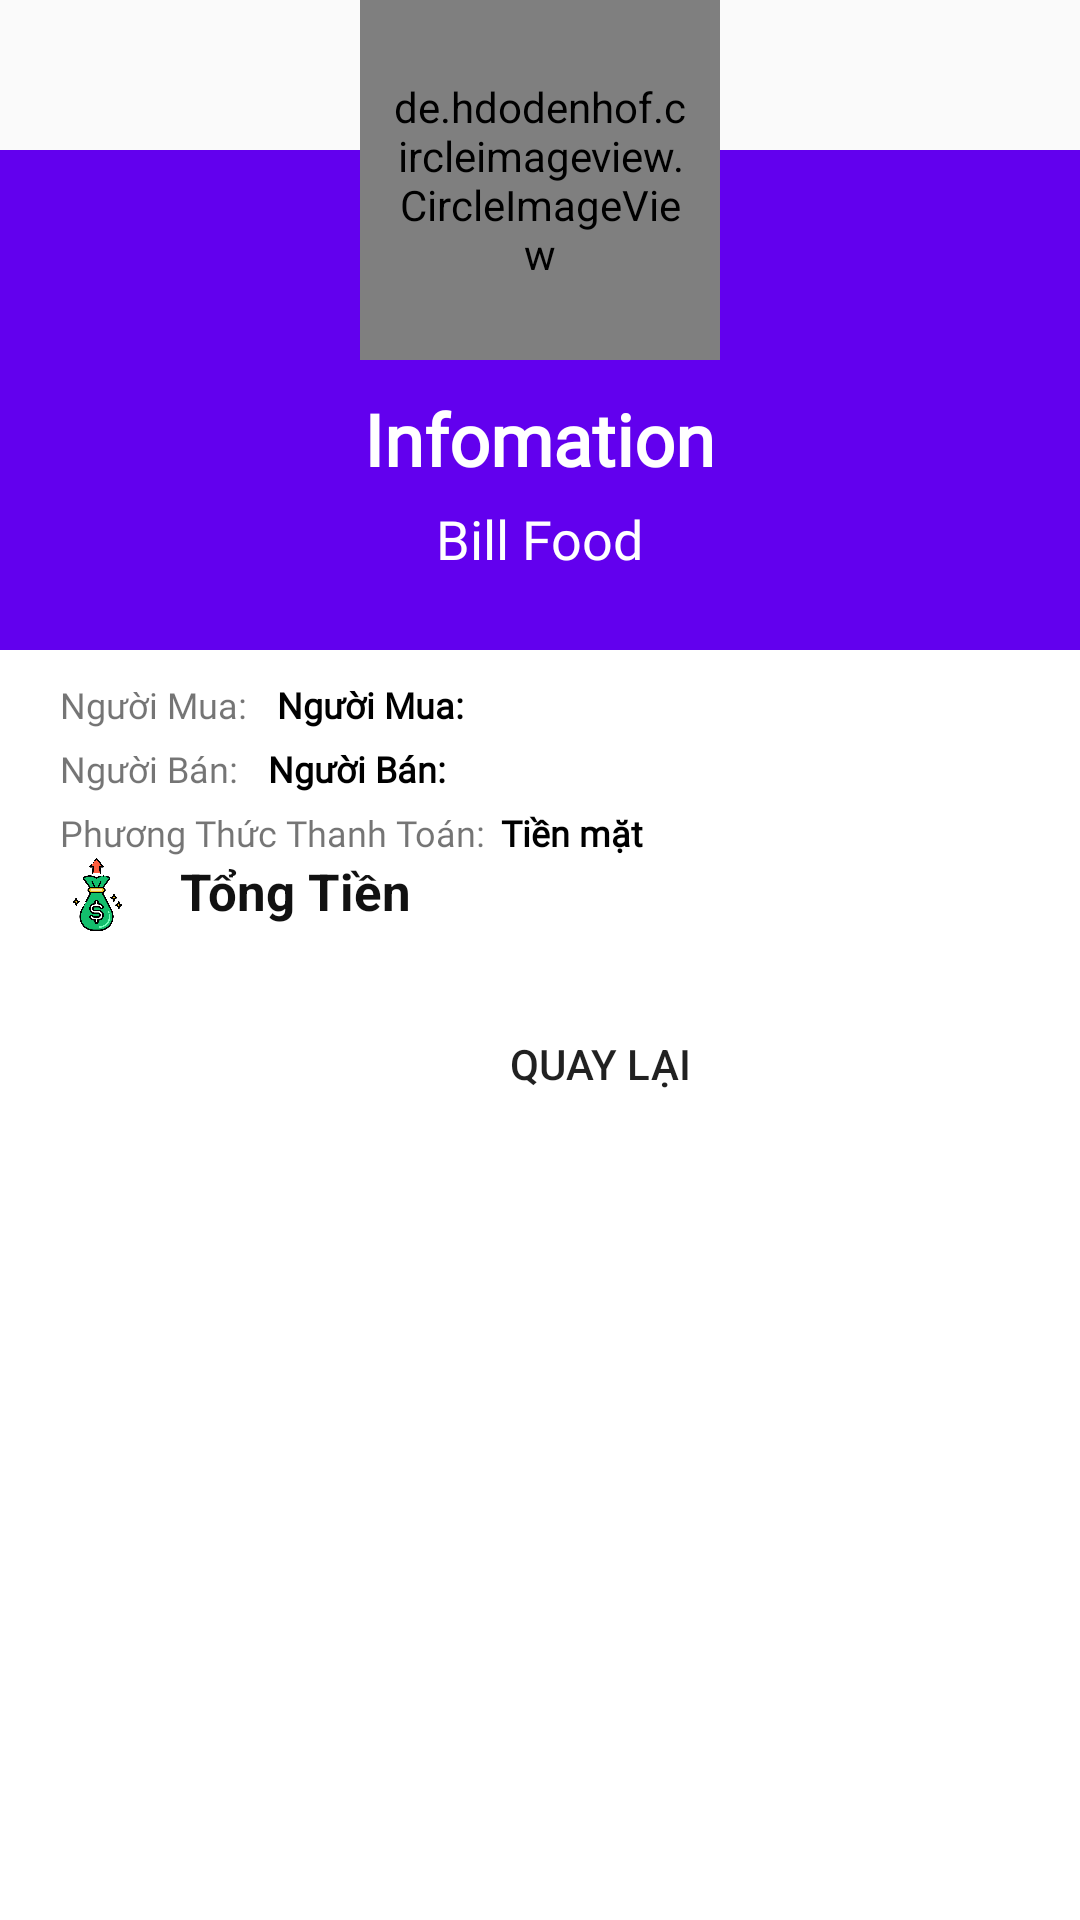

Screen size 1080w x 1920h. Icon name, then its center in pixels as (x=x, y=y):
moneybag: (x=97, y=894)
